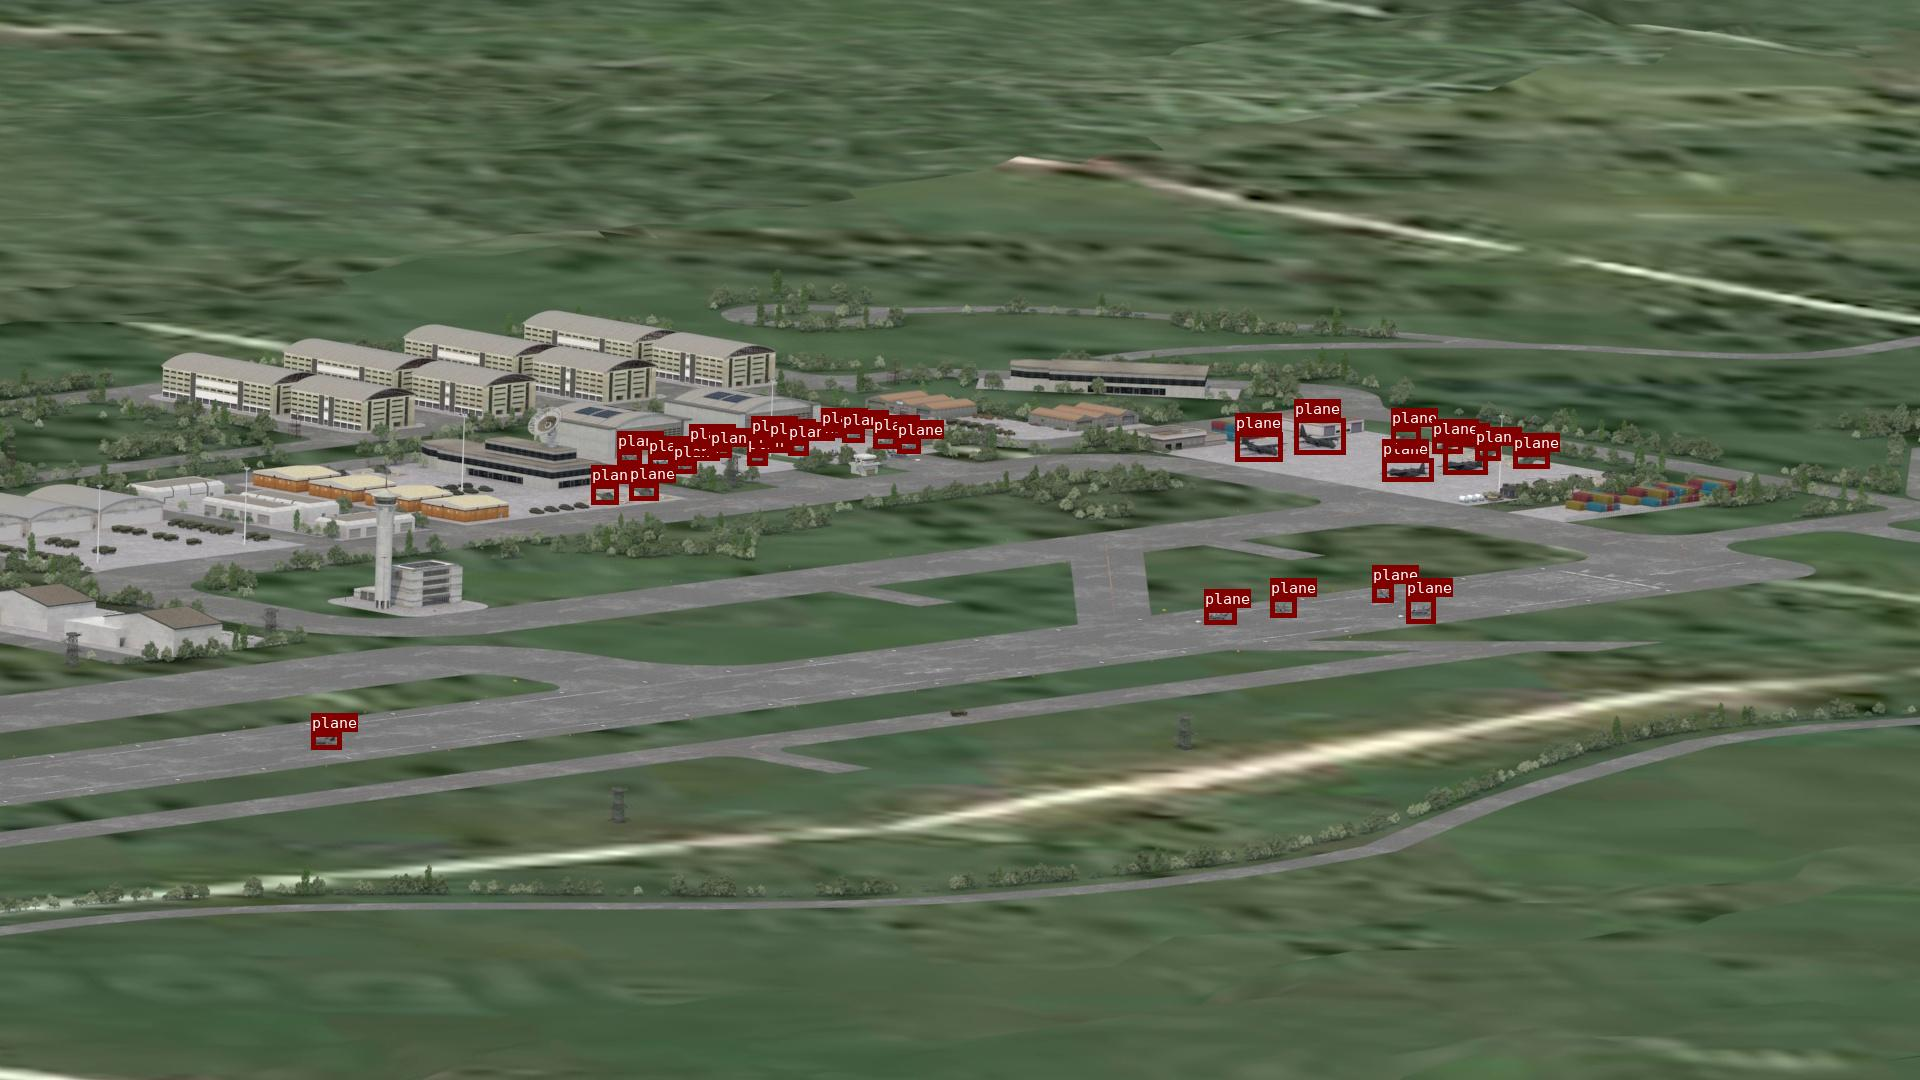plane: (1294, 418, 1345, 454), (1443, 442, 1487, 473), (1236, 433, 1282, 462), (1382, 458, 1433, 481), (1406, 597, 1435, 622), (1391, 427, 1420, 448), (1513, 452, 1549, 468), (591, 484, 618, 504), (1270, 597, 1296, 617), (311, 732, 342, 749), (1204, 608, 1236, 624), (629, 483, 658, 500), (1432, 438, 1462, 454), (1371, 584, 1393, 603), (1476, 446, 1501, 460), (617, 450, 641, 464), (873, 434, 897, 448), (897, 439, 920, 454), (647, 455, 673, 468), (789, 440, 808, 455), (673, 462, 696, 473), (843, 429, 864, 442), (769, 438, 789, 451), (688, 443, 709, 455), (746, 454, 767, 465), (709, 447, 731, 458), (822, 427, 843, 436), (752, 435, 767, 447)
